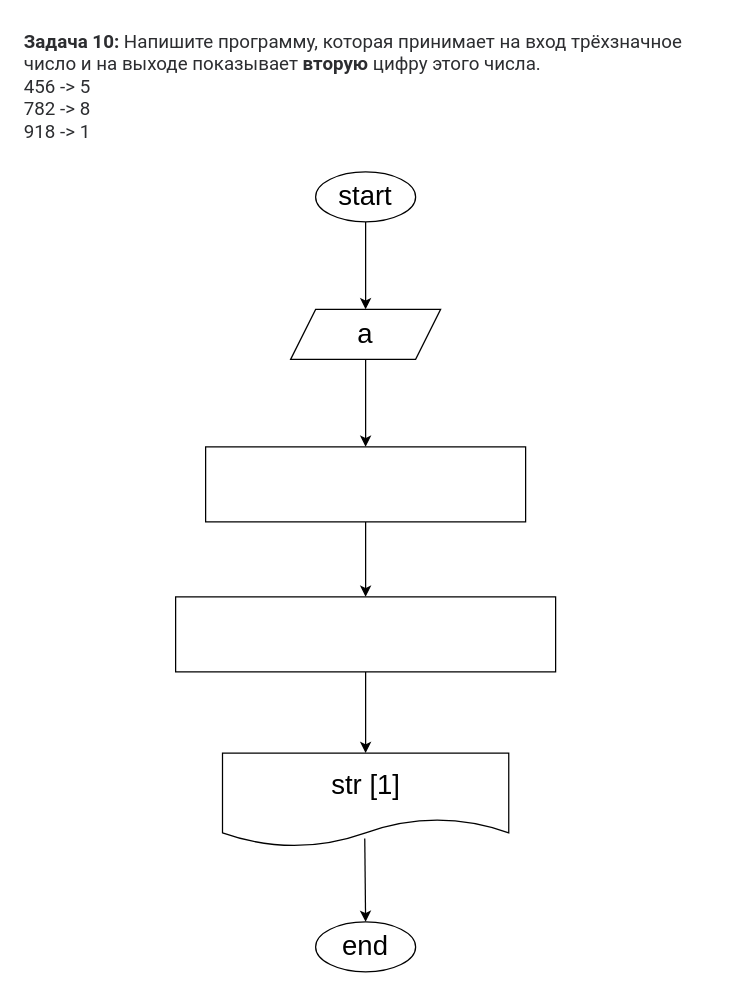
This 730x994 diagram has some shape labels left out. The centre of each missing label's shape, as x and y in pixels:
"str = a" belongs at (x=365, y=484).
"вторая цифра этого числа:" belongs at (x=365, y=634).
